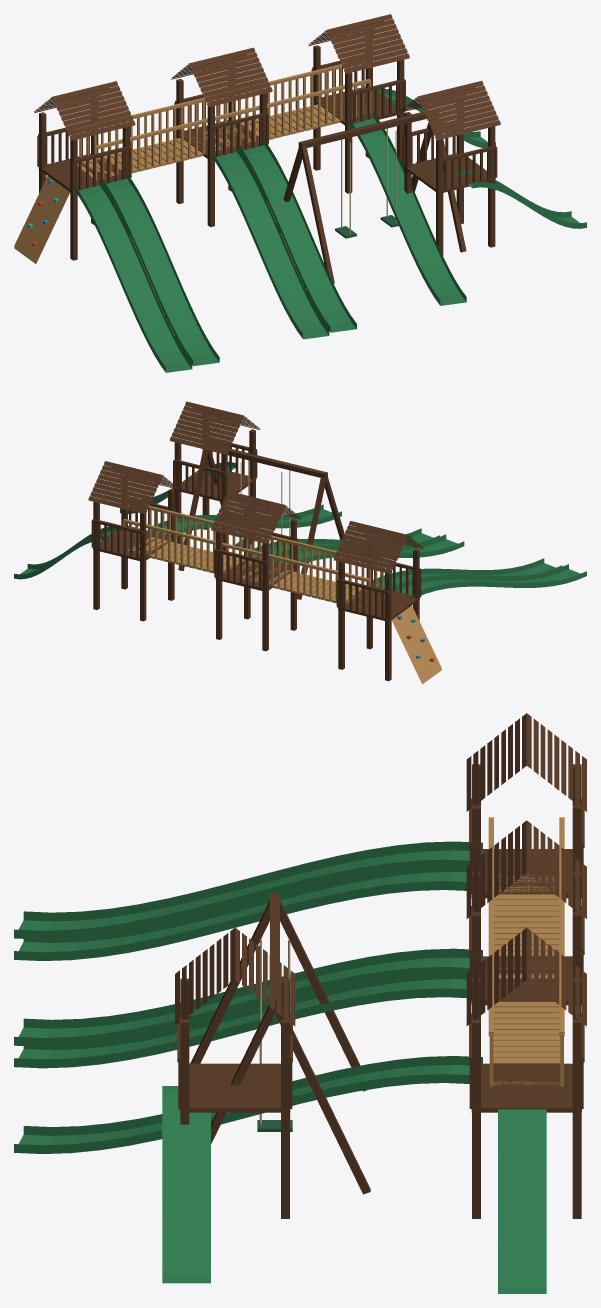
3 views of the same model, one above another, from view 1: azimuth 30°, elevation 25°; view 2: azimuth 150°, elevation 25°; view 3: azimuth 270°, elevation 25° (orthographic). The views are drawn at different scales.
Visible parts, largest first — view 1: SW-E101; view 2: SW-E101; view 3: SW-E101.
Boxes of the visible parts, x1,y1,x2,y2 form: SW-E101: [14, 14, 586, 372]; SW-E101: [14, 401, 586, 684]; SW-E101: [14, 713, 586, 1293].
Bounding box in the file's own units: 10.8 × 3.3 × 7.
